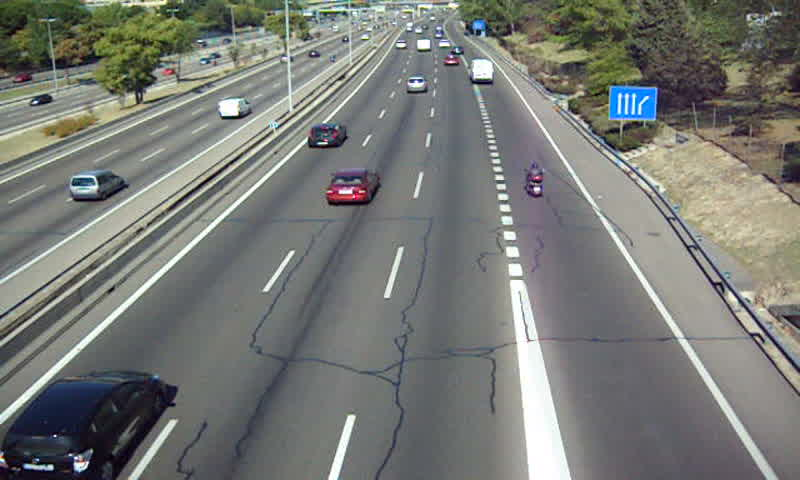car: (1, 371, 166, 480), (325, 168, 379, 204), (306, 122, 348, 148), (404, 76, 426, 93), (442, 55, 460, 67), (393, 39, 406, 48)
motorcycle: (523, 161, 547, 198)
van: (470, 58, 495, 84), (415, 39, 429, 52)
